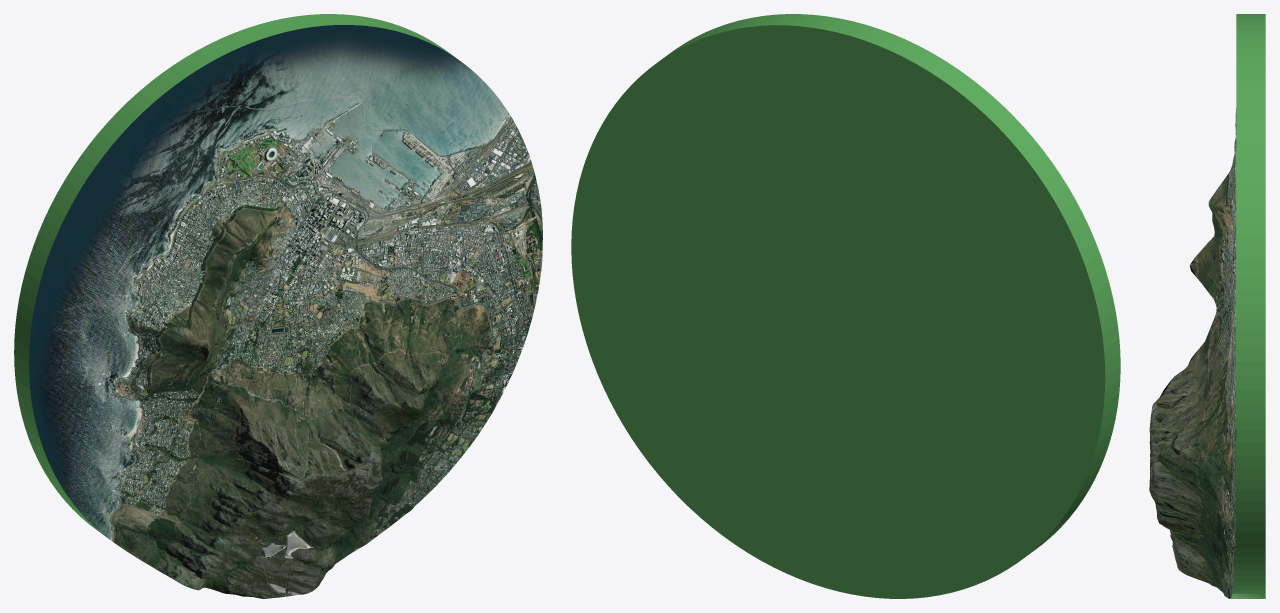
The model's file is cape_town.glb.
3 renders of one model, left to right at view 1: azimuth 30°, elevation 25°; view 2: azimuth 150°, elevation 25°; view 3: azimuth 270°, elevation 25°, orthographic. The views are drawn at different scales.
Bounding box in the file's own units: 200 × 200 × 39.7.
2 materials, 1 textured.
